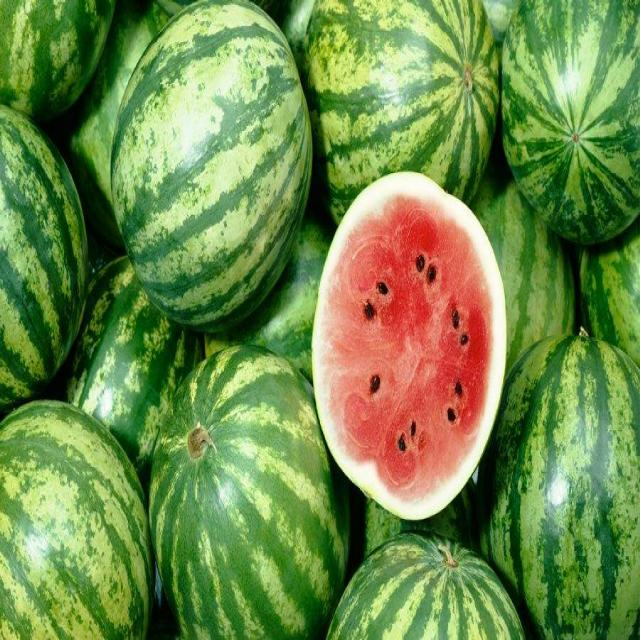watermelon: (306, 166, 506, 528), (124, 1, 316, 332), (147, 338, 353, 640), (475, 320, 640, 640), (298, 0, 501, 237), (0, 374, 155, 640), (501, 0, 640, 235), (468, 155, 572, 457), (63, 255, 207, 472), (0, 99, 90, 434), (322, 527, 526, 640), (0, 0, 117, 126), (571, 229, 640, 383)
